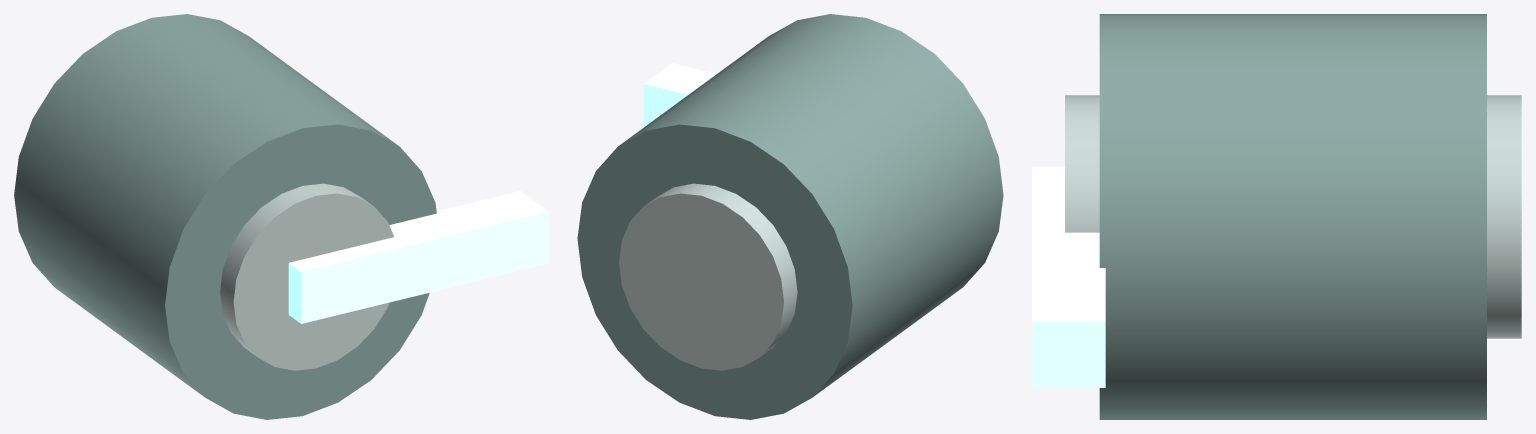
Rendered from swerve_module.glb.
The picture shows the model from 3 angles, left to right: view 1: azimuth 30°, elevation 25°; view 2: azimuth 150°, elevation 25°; view 3: azimuth 270°, elevation 25°; orthographic projection. The views are drawn at different scales.
Parts seen in each view (by area): view 1: steer_pod, direction_witness, kingpin_cap; view 2: steer_pod, kingpin_cap, direction_witness; view 3: steer_pod, direction_witness, kingpin_cap.
Part boxes in pixels (<box>): steer_pod: <box>14,14,436,419</box>; direction_witness: <box>288,191,548,323</box>; kingpin_cap: <box>220,183,393,370</box>; steer_pod: <box>577,14,1003,419</box>; kingpin_cap: <box>619,183,797,370</box>; direction_witness: <box>643,63,716,127</box>; steer_pod: <box>1099,14,1486,419</box>; direction_witness: <box>1032,166,1105,387</box>; kingpin_cap: <box>1065,95,1521,338</box>.
Size of the model in its own units: 0.13 by 0.1 by 0.12.
